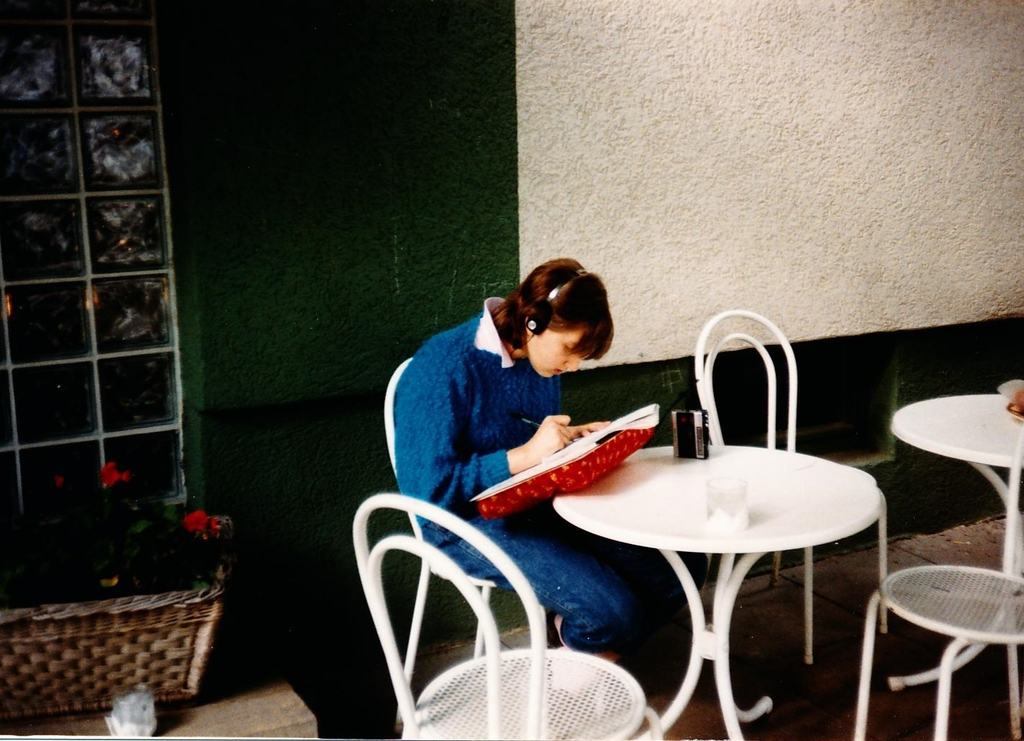Chair: (349, 494, 662, 740), (386, 344, 568, 728), (681, 304, 888, 630), (847, 407, 1023, 740)
